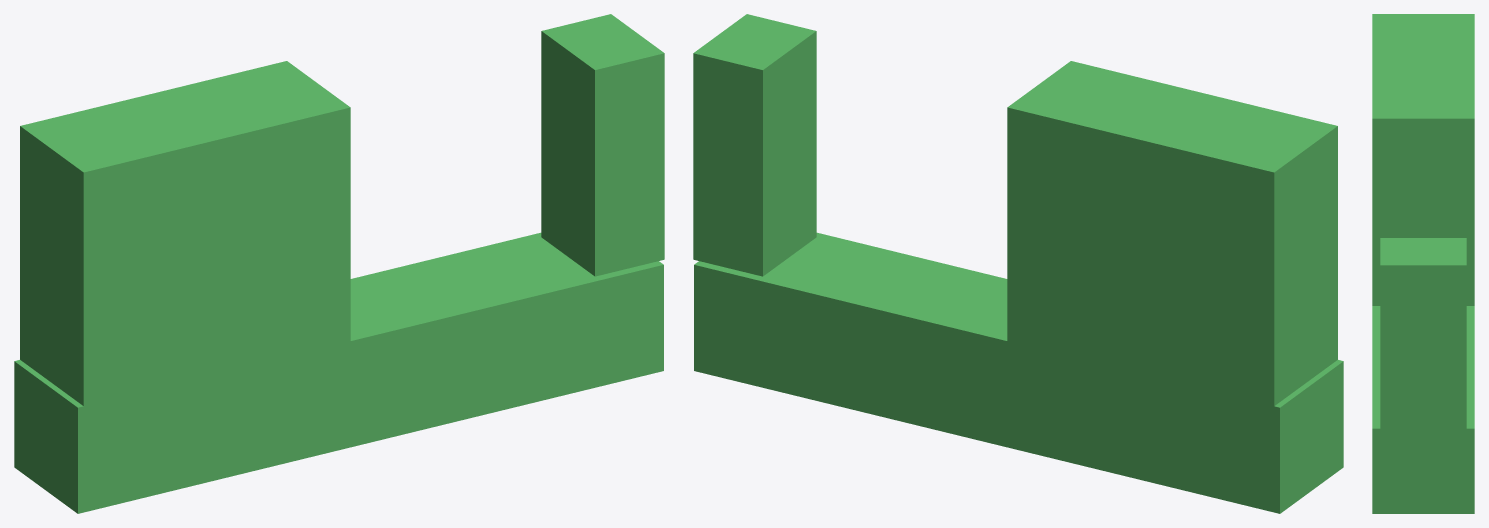
The model's file is balustrade_vault_broken_collision.glb.
3 views of the same model, side by side, from view 1: azimuth 30°, elevation 25°; view 2: azimuth 150°, elevation 25°; view 3: azimuth 270°, elevation 25° (orthographic). The views are drawn at different scales.
Visible parts, largest first — view 1: balustrade_vault_broken_left_standing-col, balustrade_vault_broken_low_plinth-col, balustrade_vault_broken_right_pier-col; view 2: balustrade_vault_broken_left_standing-col, balustrade_vault_broken_low_plinth-col, balustrade_vault_broken_right_pier-col; view 3: balustrade_vault_broken_left_standing-col, balustrade_vault_broken_right_pier-col, balustrade_vault_broken_low_plinth-col.
Part boxes in pixels (<box>): balustrade_vault_broken_left_standing-col: <box>20,61,350,405</box>; balustrade_vault_broken_low_plinth-col: <box>14,232,663,513</box>; balustrade_vault_broken_right_pier-col: <box>541,14,664,276</box>; balustrade_vault_broken_left_standing-col: <box>1007,61,1337,405</box>; balustrade_vault_broken_low_plinth-col: <box>694,232,1343,513</box>; balustrade_vault_broken_right_pier-col: <box>693,14,816,276</box>; balustrade_vault_broken_left_standing-col: <box>1372,14,1474,305</box>; balustrade_vault_broken_right_pier-col: <box>1380,238,1466,430</box>; balustrade_vault_broken_low_plinth-col: <box>1372,306,1474,513</box>.
Bounding box in the file's own units: 2.04 × 1.12 × 0.38.
